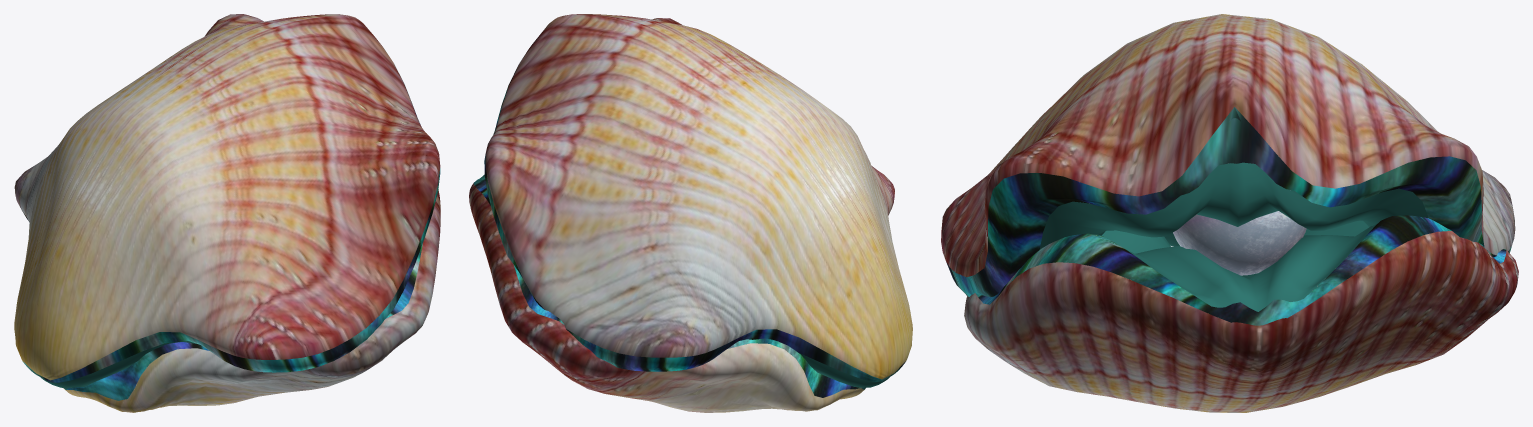
Rendered from giant-clam.glb.
3 views of the same model, side by side, from view 1: azimuth 30°, elevation 25°; view 2: azimuth 150°, elevation 25°; view 3: azimuth 270°, elevation 25° (orthographic). The views are drawn at different scales.
Visible parts, largest first — view 1: Object_3, Object_4, Object_5, Object_6; view 2: Object_3, Object_4, Object_5, Object_6; view 3: Object_4, Object_3, Object_5, Object_6, Object_2.
Boxes of the visible parts, bbox=[...] form: Object_3: bbox=[14, 14, 440, 380]; Object_4: bbox=[63, 189, 440, 412]; Object_5: bbox=[21, 74, 440, 400]; Object_6: bbox=[27, 341, 195, 389]; Object_3: bbox=[485, 14, 912, 379]; Object_4: bbox=[469, 183, 864, 412]; Object_5: bbox=[473, 35, 905, 397]; Object_6: bbox=[480, 175, 901, 389]; Object_4: bbox=[964, 231, 1518, 412]; Object_3: bbox=[941, 14, 1515, 277]; Object_5: bbox=[946, 107, 1511, 325]; Object_6: bbox=[1039, 162, 1428, 311]; Object_2: bbox=[1173, 211, 1306, 275].
Size of the model in its own units: 2.09 by 1.75 by 2.2.
4 materials, 3 textured.
